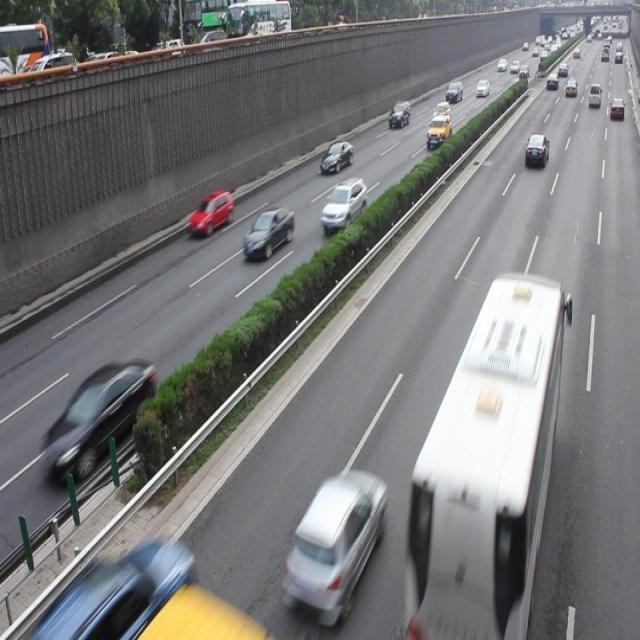car: (283, 468, 387, 620), (41, 359, 156, 486), (242, 206, 295, 259), (320, 176, 367, 228), (188, 188, 233, 234), (320, 137, 353, 172), (523, 134, 548, 168)
van: (400, 272, 562, 640)
